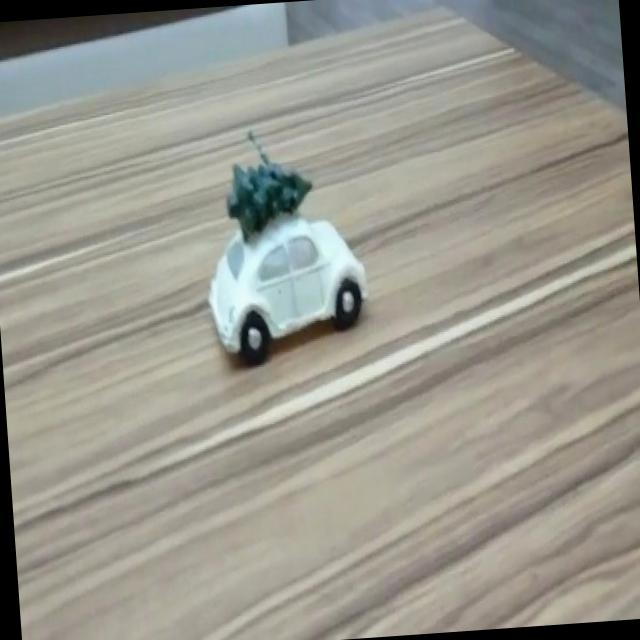car: (208, 218, 370, 360)
